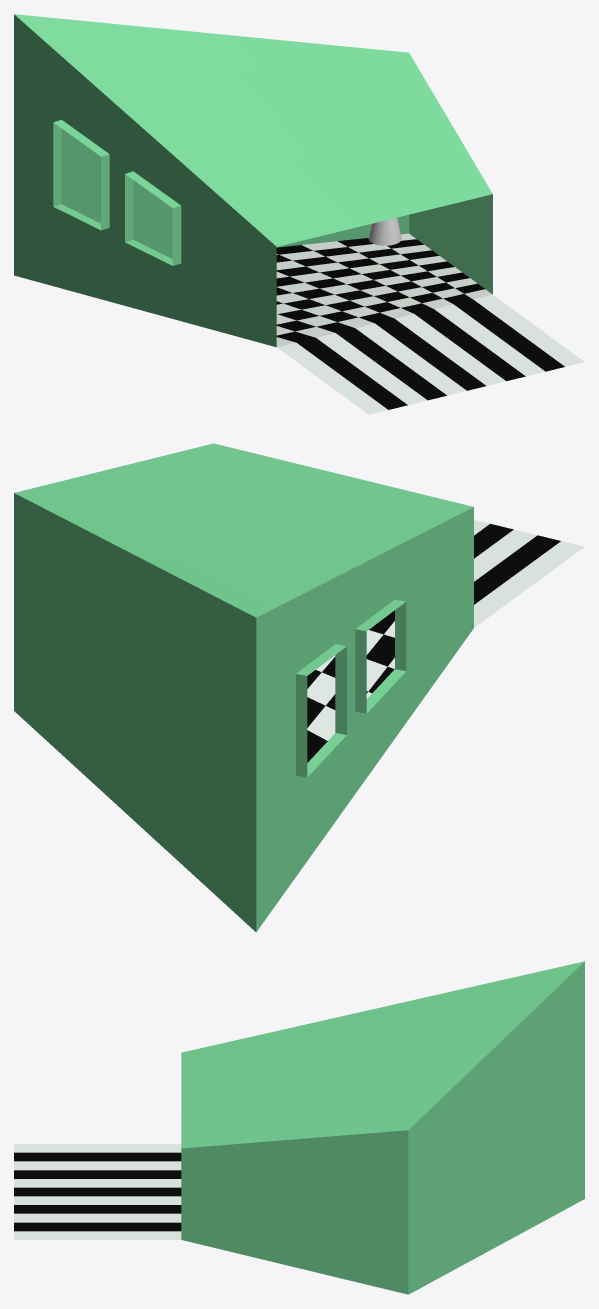
3 views of the same model, one above another, from view 1: azimuth 30°, elevation 25°; view 2: azimuth 150°, elevation 25°; view 3: azimuth 270°, elevation 25° (orthographic). The views are drawn at different scales.
Parts seen in each view (by area): view 1: room, nav mesh, Cylinder; view 2: room, nav mesh; view 3: room, nav mesh.
Boxes of the visible parts, left/top/right/bottom form: room: left=14, top=14, right=492, bottom=347; nav mesh: left=172, top=233, right=584, bottom=414; Cylinder: left=368, top=217, right=401, bottom=245; room: left=14, top=443, right=473, bottom=932; nav mesh: left=307, top=520, right=584, bottom=762; room: left=181, top=961, right=584, bottom=1294; nav mesh: left=14, top=1144, right=181, bottom=1239.
Bounding box in the file's own units: 7.66 × 6.38 × 13.9.
